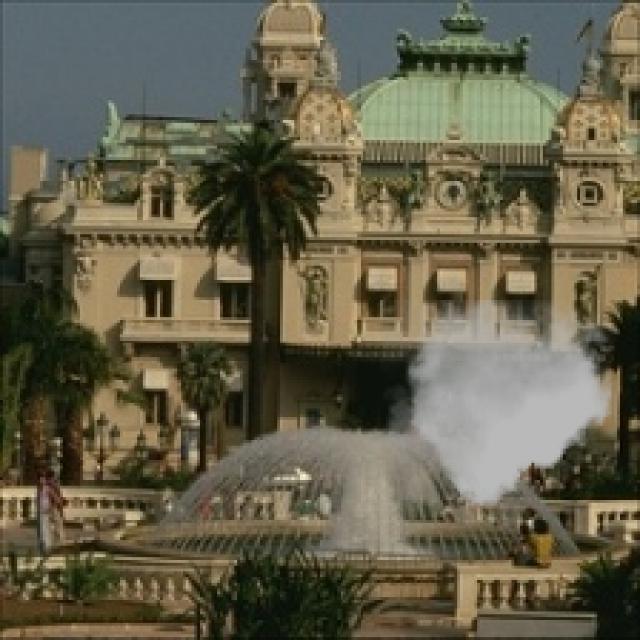smoke: (380, 300, 617, 506)
